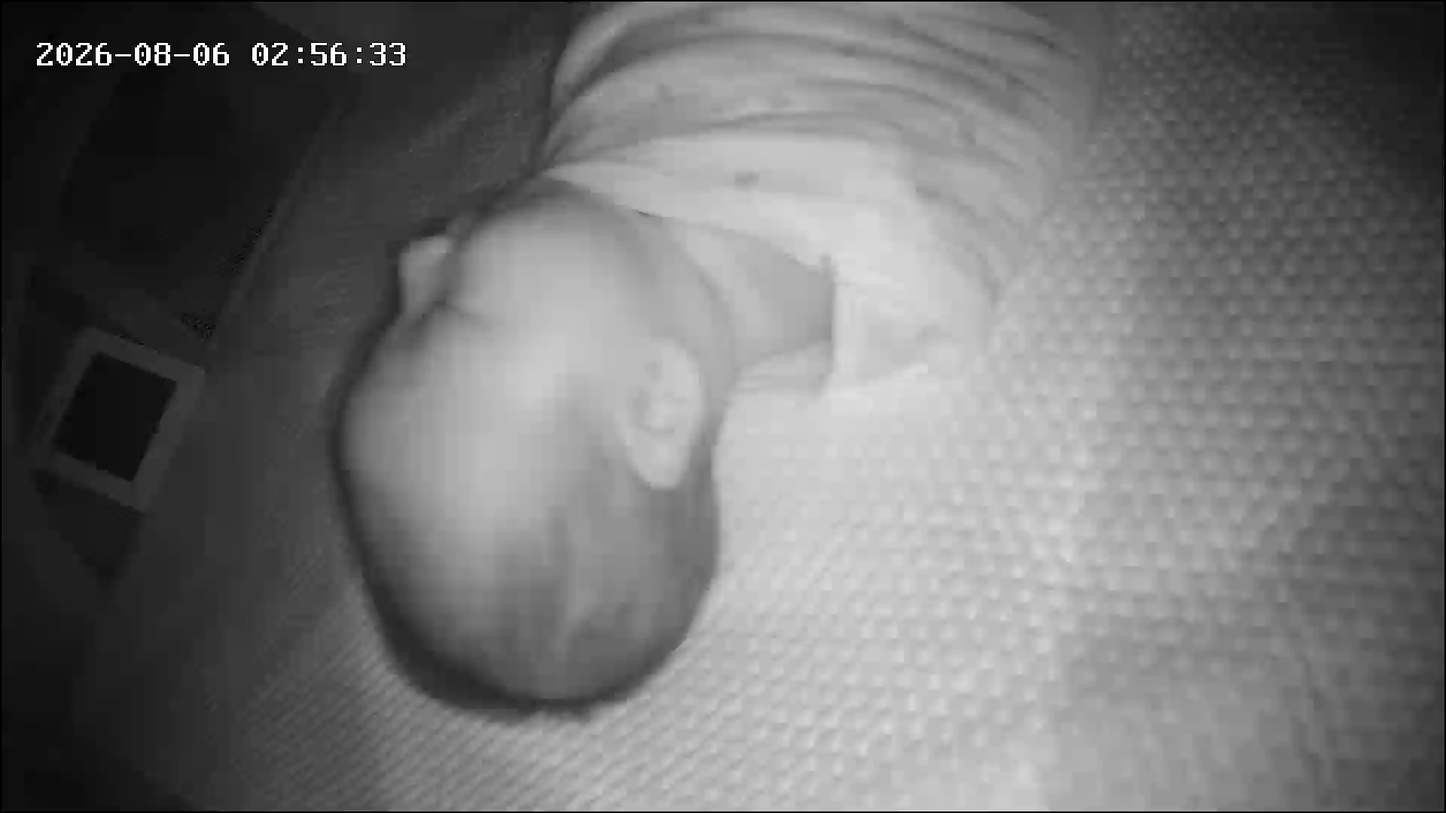baby: (0, 0, 938, 731), (315, 5, 1115, 726)
baby_face: (321, 185, 746, 707)
